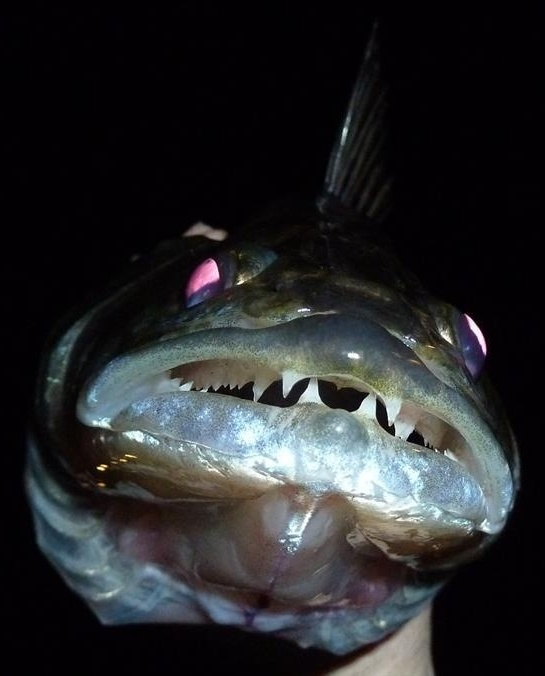Sander lucioperca: (20, 1, 525, 656)
